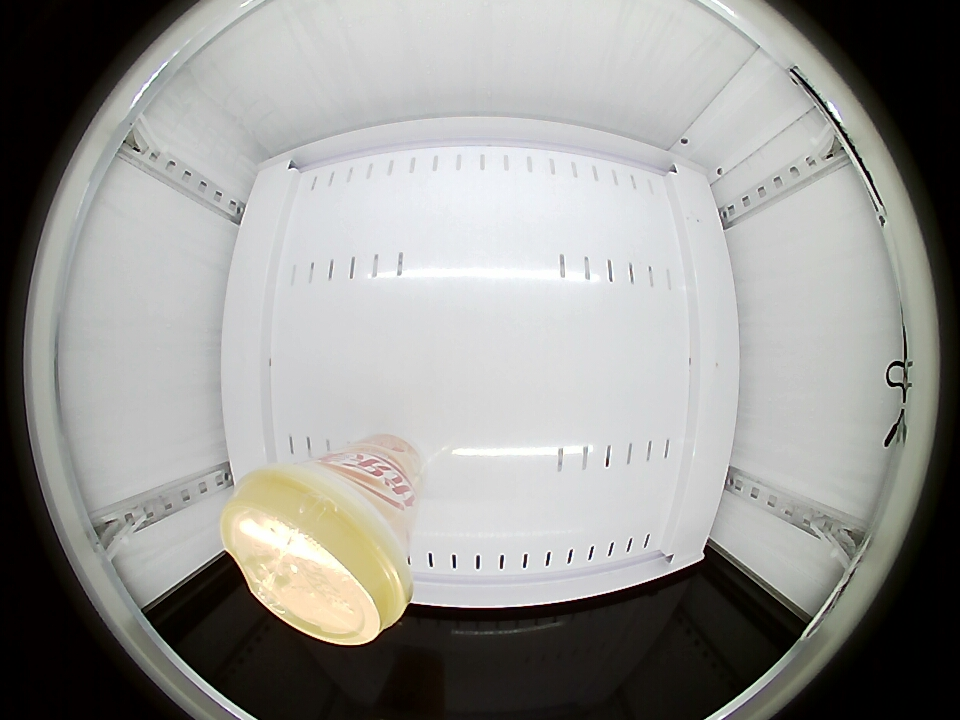youlemei: (222, 466, 411, 646)
